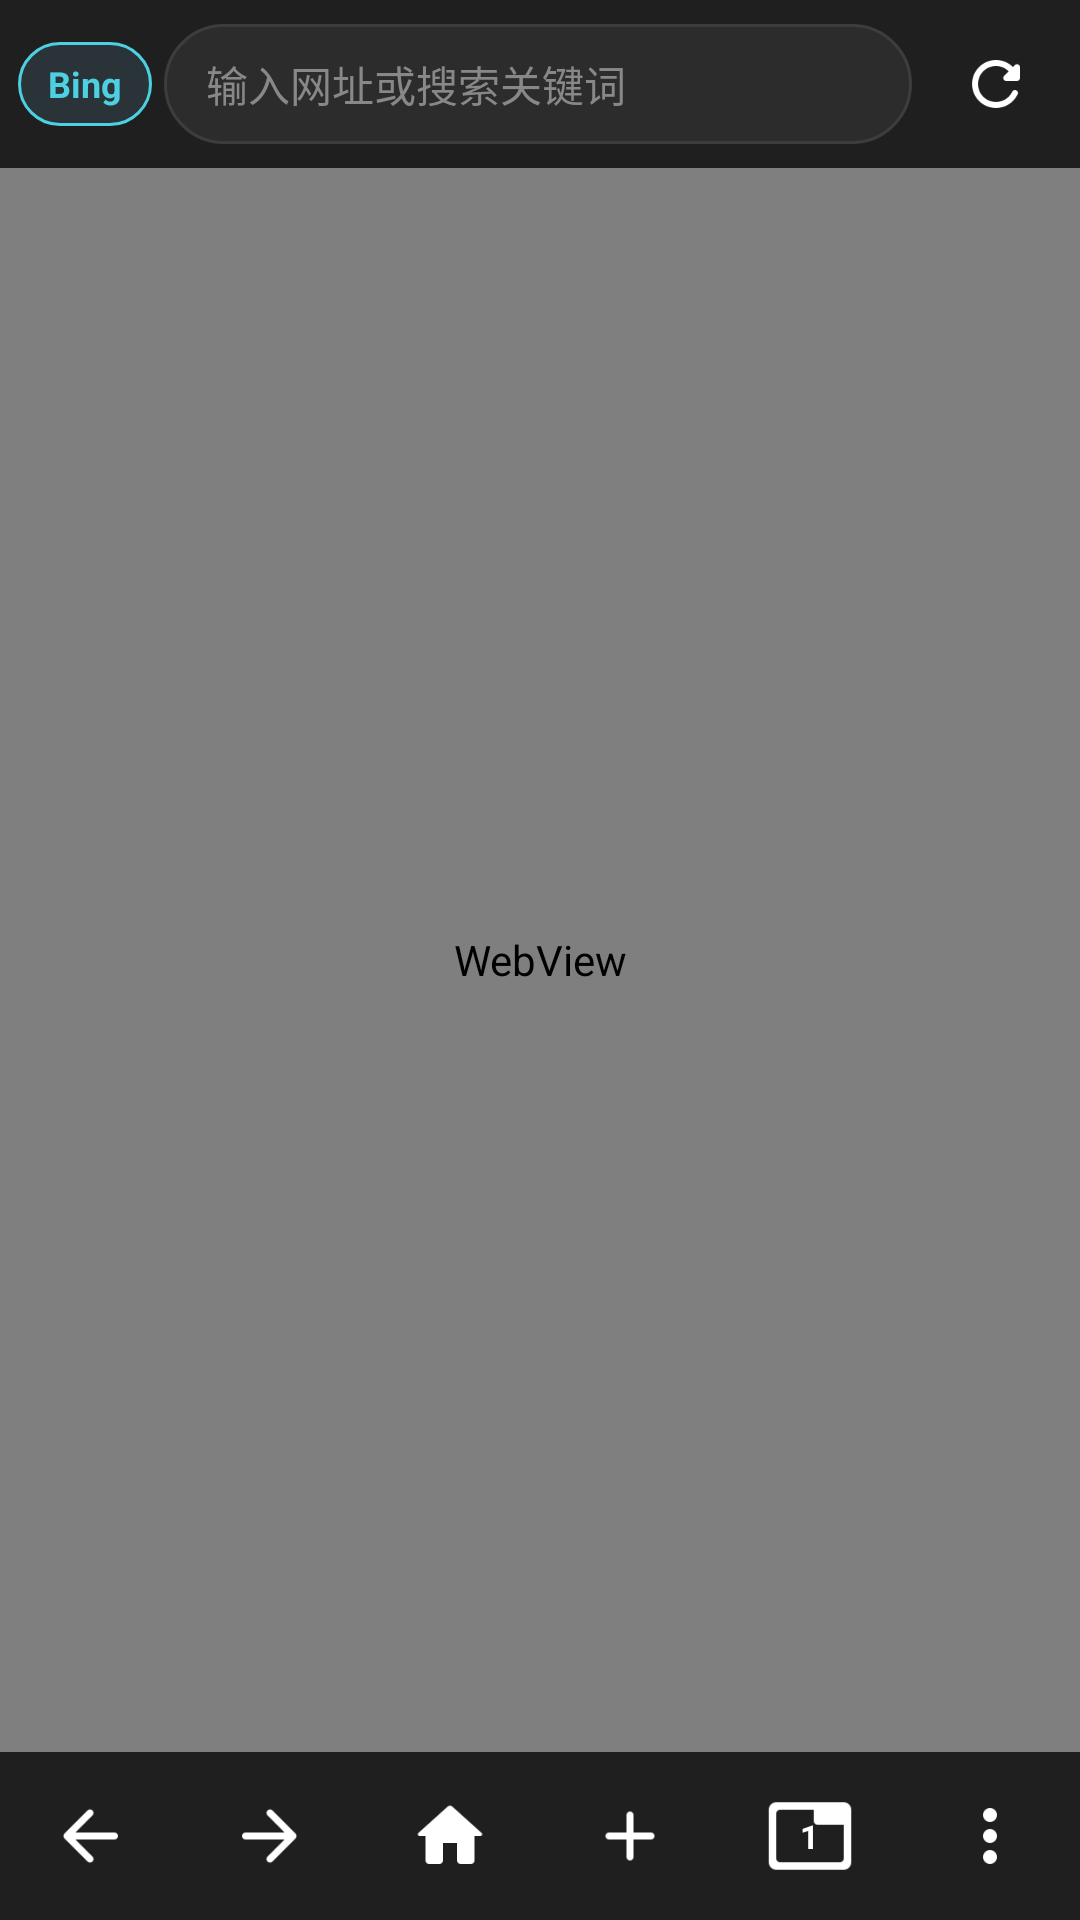

Icons on this 1080w x 1920h Android screen, each with the point to tap as point (x, y):
主页: point (450, 1834)
刷新: point (996, 84)
前进: point (269, 1836)
后退: point (90, 1836)
新标签页: point (630, 1836)
标签页: point (810, 1836)
菜单: point (990, 1836)
